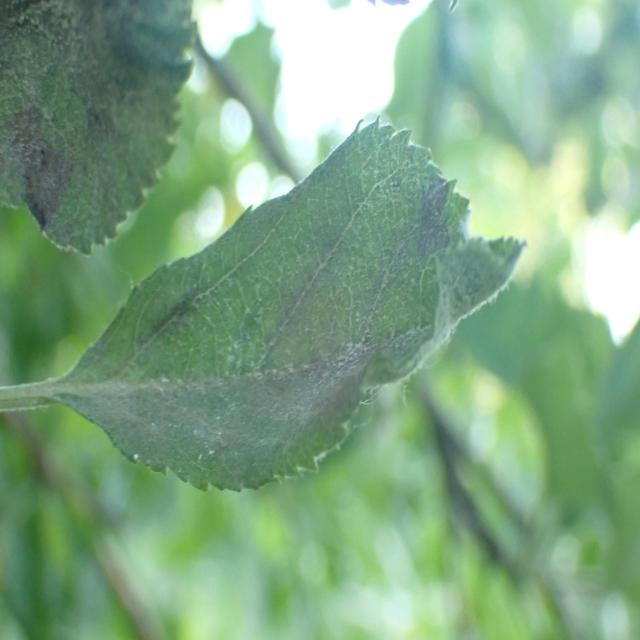Powdery_mildew: (9, 122, 511, 490), (0, 0, 250, 261)
